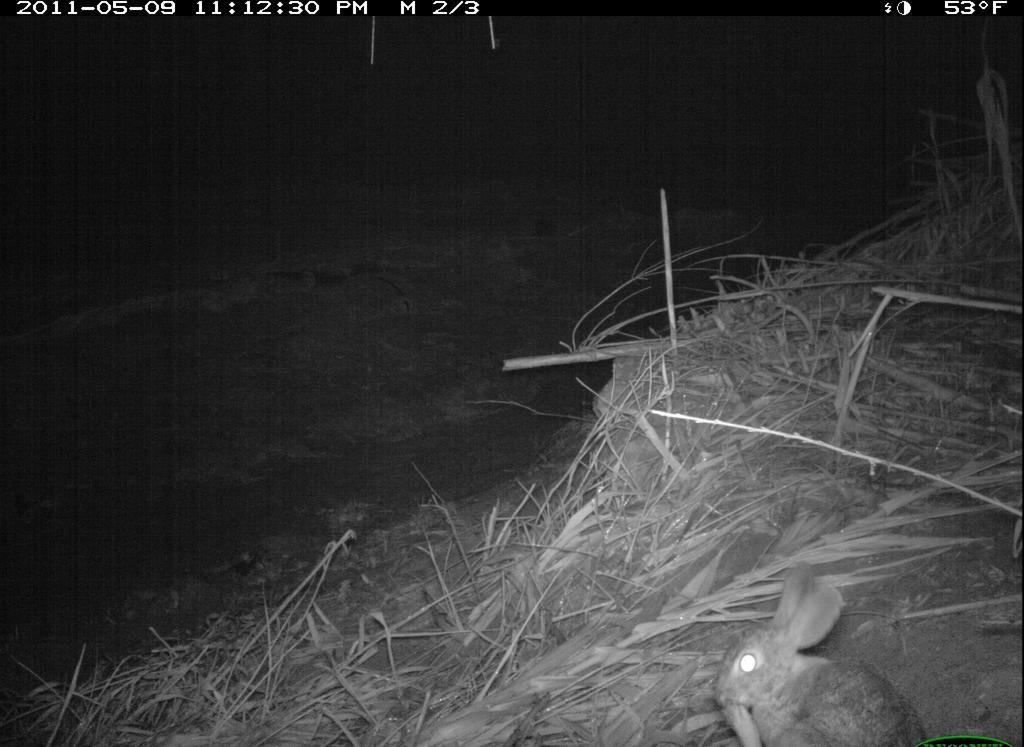rabbit: (707, 570, 929, 747)
